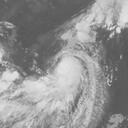cyclone: (41, 47, 101, 106)
